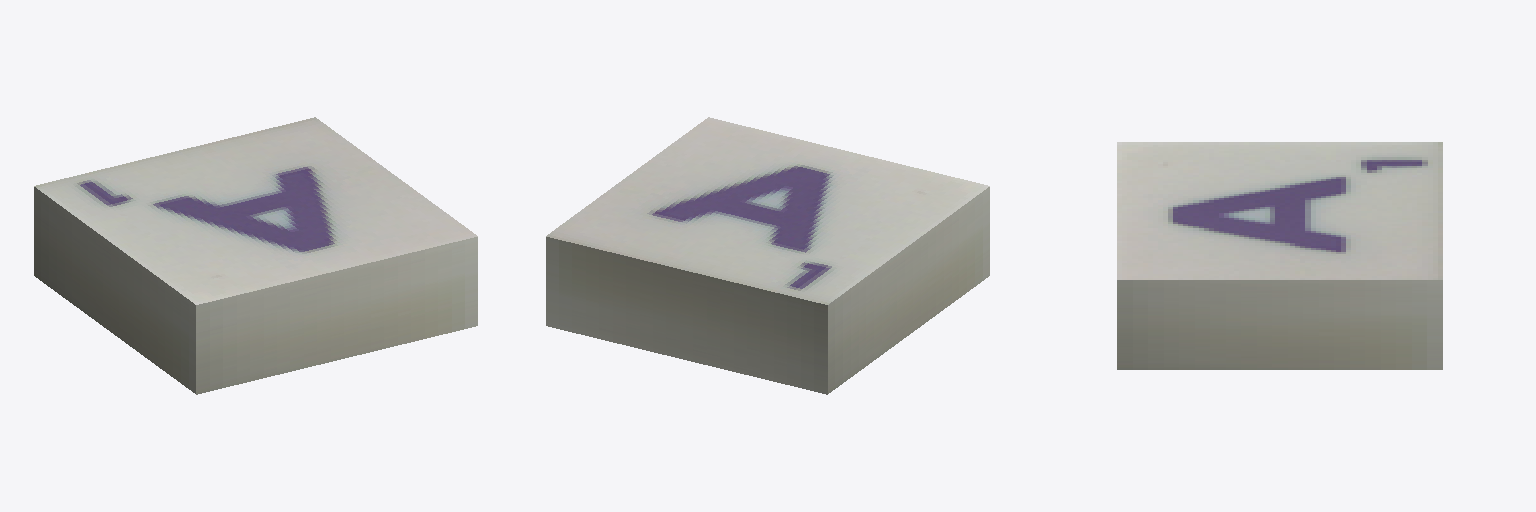
3 renders of one model, left to right at view 1: azimuth 30°, elevation 25°; view 2: azimuth 150°, elevation 25°; view 3: azimuth 270°, elevation 25°, orthographic.
Visible parts, largest first — view 1: Cube; view 2: Cube; view 3: Cube.
Part boxes in pixels (x1,y1,x2,y2): Cube: (34, 117, 477, 394); Cube: (546, 117, 989, 394); Cube: (1117, 142, 1442, 369).
Bounding box in the file's own units: 19.89 × 6.03 × 19.89.
3 materials, 3 textured.